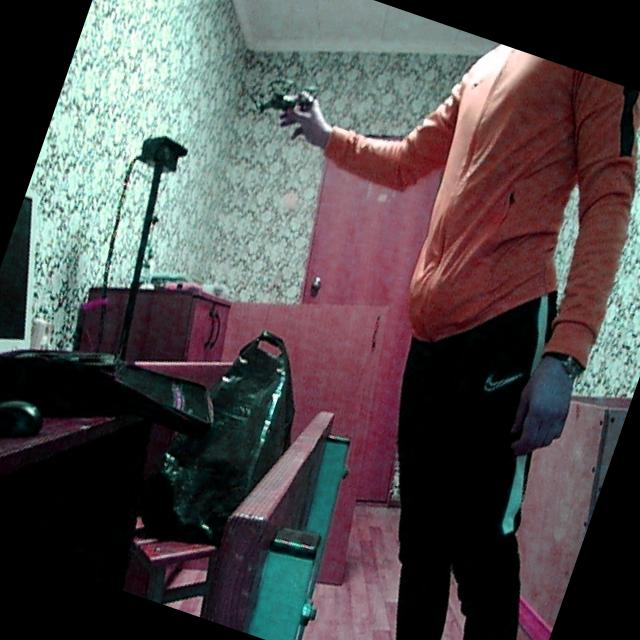drone: (250, 57, 336, 142)
